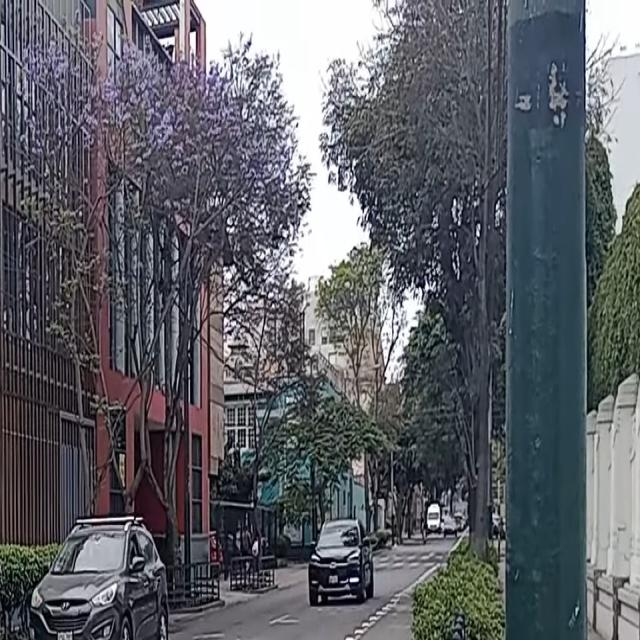car: (29, 515, 171, 640), (309, 516, 374, 604), (426, 503, 442, 535), (443, 519, 459, 537)
